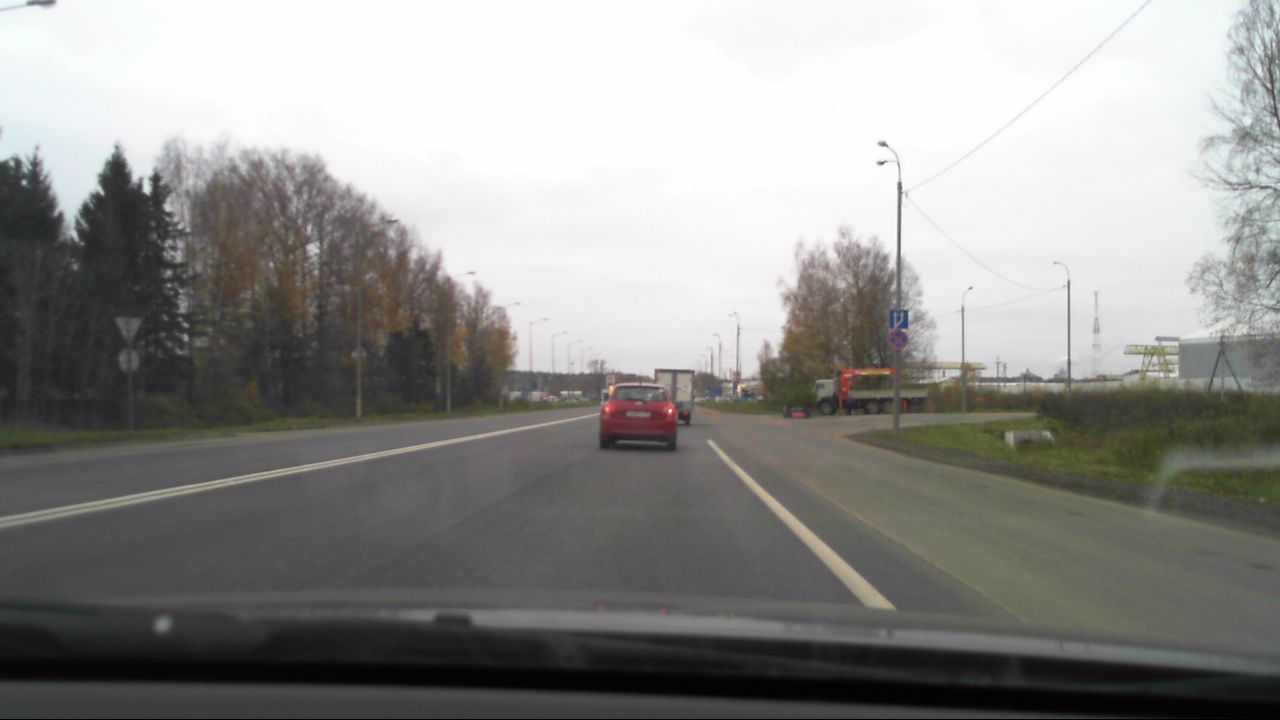No Parking: (887, 330, 909, 351)
